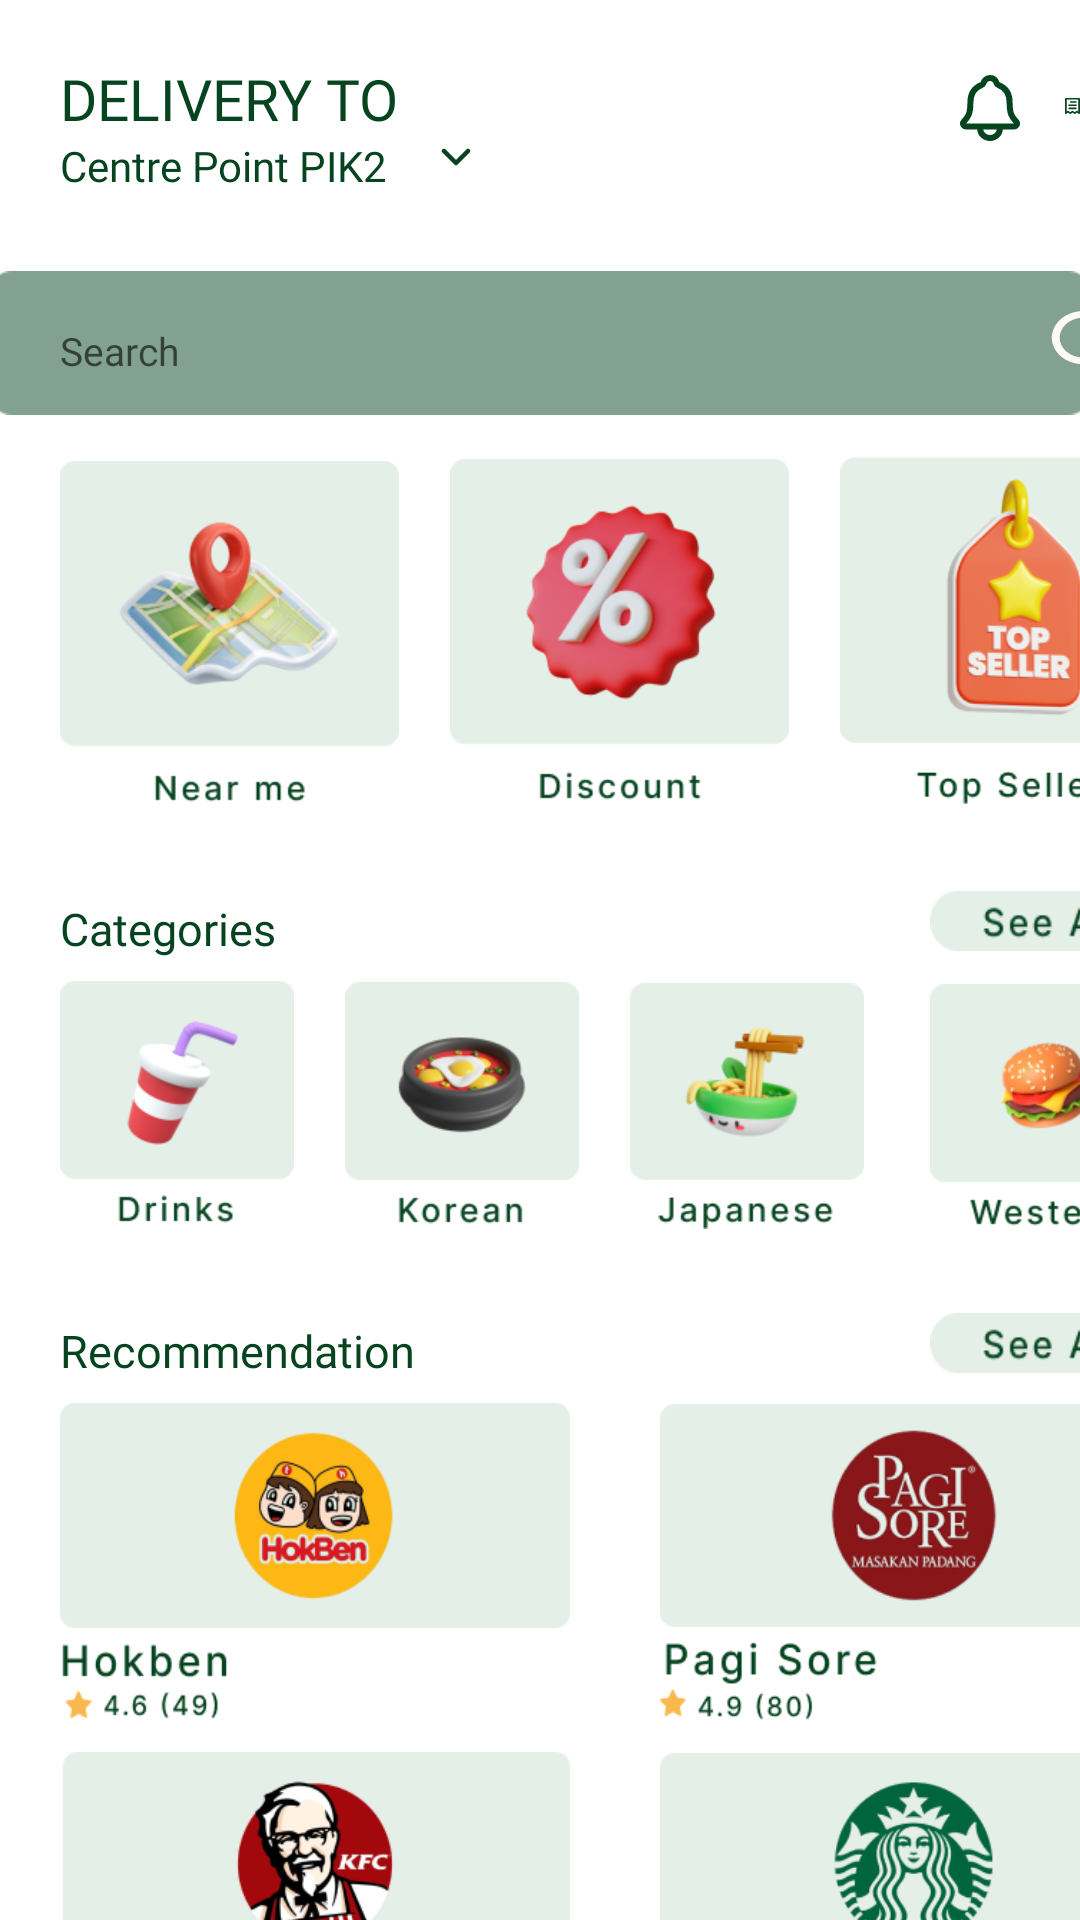

Point at icon controls on the screen. Image size 1080 × 1920, points as (x=x, y=y).
notiff: (x=990, y=108)
